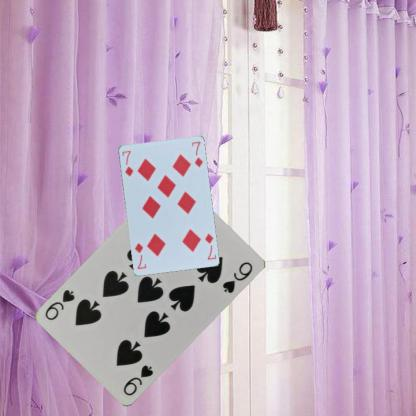7d: (202, 230, 217, 260), (119, 148, 134, 177)
9s: (120, 362, 154, 398)
